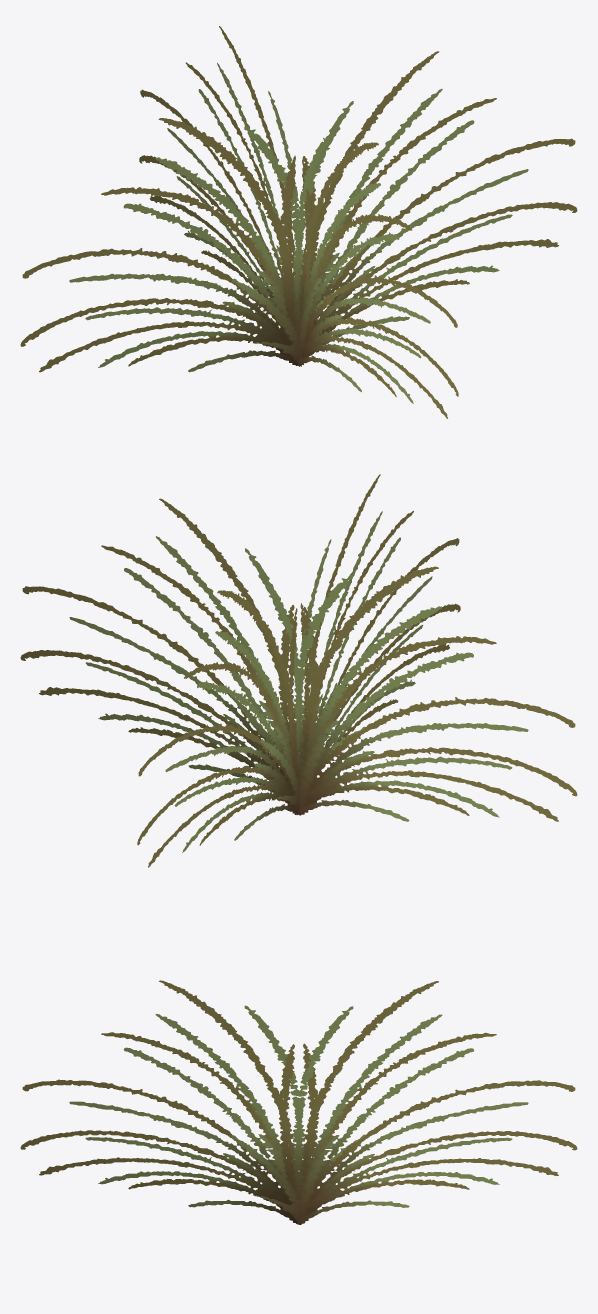
File: painted-weed-042.glb
The picture shows the model from 3 angles, top to bottom: view 1: azimuth 30°, elevation 25°; view 2: azimuth 150°, elevation 25°; view 3: azimuth 270°, elevation 25°; orthographic projection. The views are drawn at different scales.
Size of the model in its own units: 15.66 by 7.88 by 15.66.
1 material, 1 textured.
